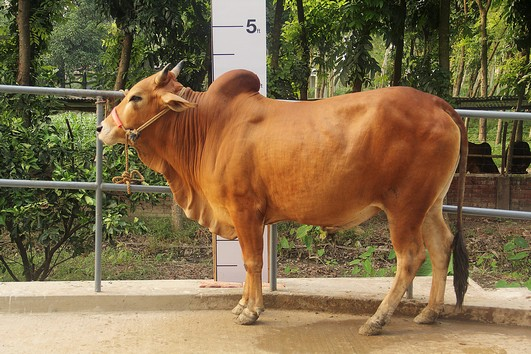cow: (89, 53, 473, 341)
